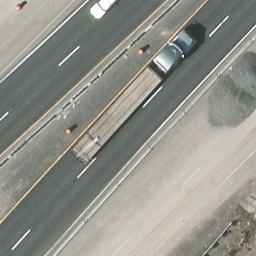car: (89, 0, 123, 19)
truck: (65, 29, 200, 166)
